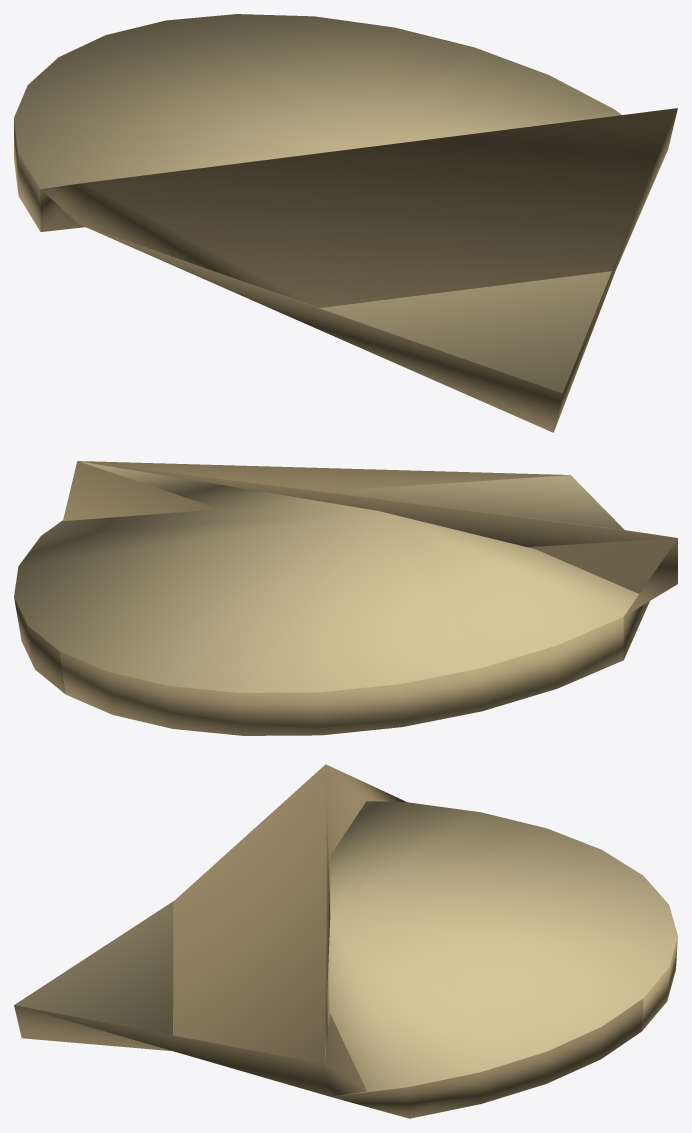
File: Sandscale.glb
3 views of the same model, one above another, from view 1: azimuth 30°, elevation 25°; view 2: azimuth 150°, elevation 25°; view 3: azimuth 270°, elevation 25° (orthographic). The views are drawn at different scales.
Parts seen in each view (by area): view 1: Sandscale; view 2: Sandscale; view 3: Sandscale.
Part boxes in pixels (x1=…): Sandscale: x1=14, y1=14, x2=677, y2=432; Sandscale: x1=14, y1=461, x2=677, y2=735; Sandscale: x1=14, y1=764, x2=677, y2=1118.
Bounding box in the file's own units: 0.3639 × 0.1093 × 0.42.
